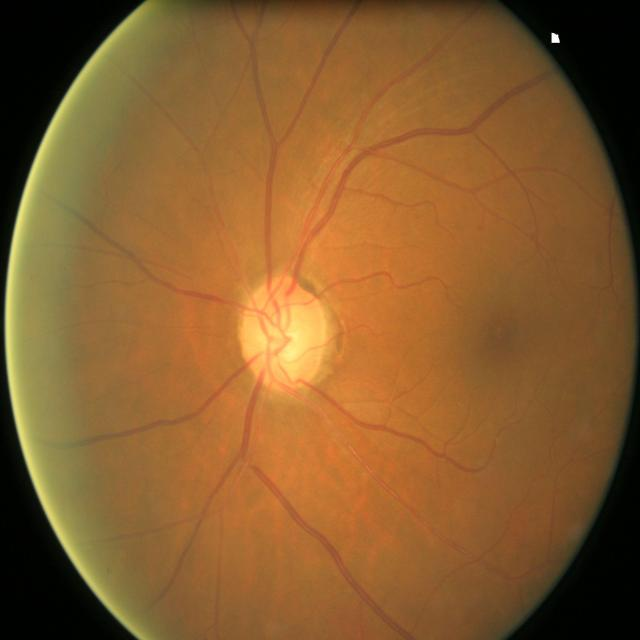OC: (258, 307, 305, 360)
OD: (240, 279, 331, 393)
